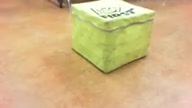cube: (70, 1, 155, 74)
